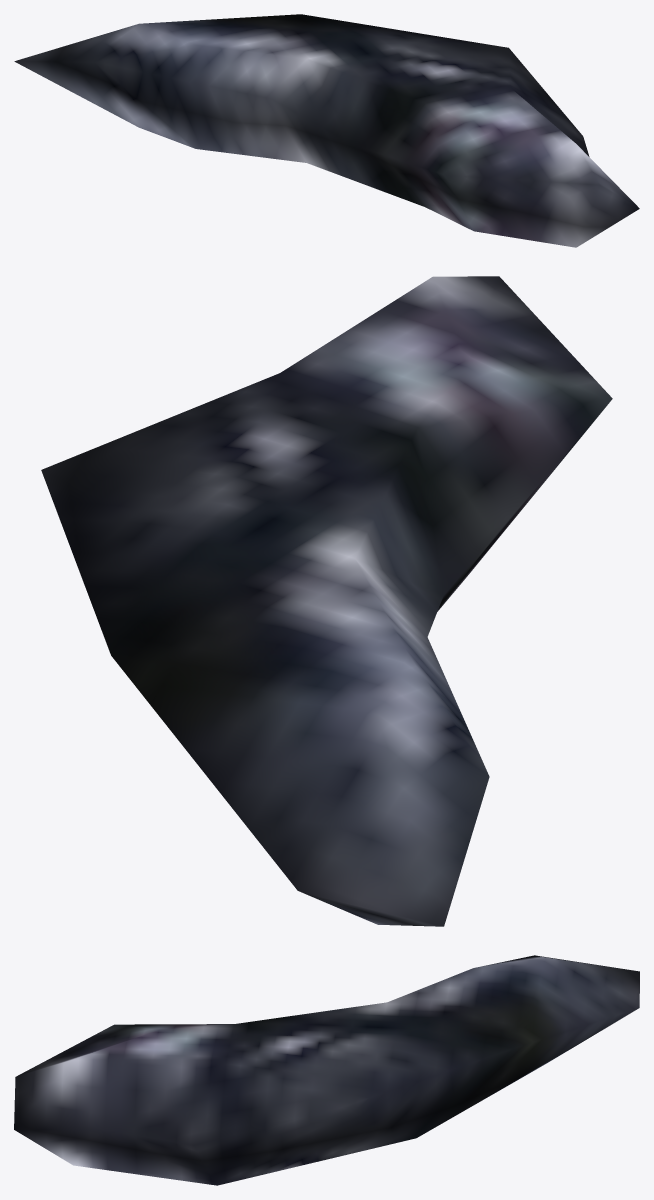
The model's file is nar_condra_7_cone_6.glb.
The picture shows the model from 3 angles, top to bottom: view 1: azimuth 30°, elevation 25°; view 2: azimuth 150°, elevation 25°; view 3: azimuth 270°, elevation 25°; orthographic projection. The views are drawn at different scales.
Visible parts, largest first — view 1: model_nar_condra_7_cone_6; view 2: model_nar_condra_7_cone_6; view 3: model_nar_condra_7_cone_6.
Part boxes in pixels (left/top/right/bottom): model_nar_condra_7_cone_6: left=14, top=14, right=639, bottom=247; model_nar_condra_7_cone_6: left=41, top=276, right=612, bottom=926; model_nar_condra_7_cone_6: left=14, top=955, right=639, bottom=1185.
Bounding box in the file's own units: 0.1658 × 0.0558 × 0.2522.
1 material, 1 textured.
